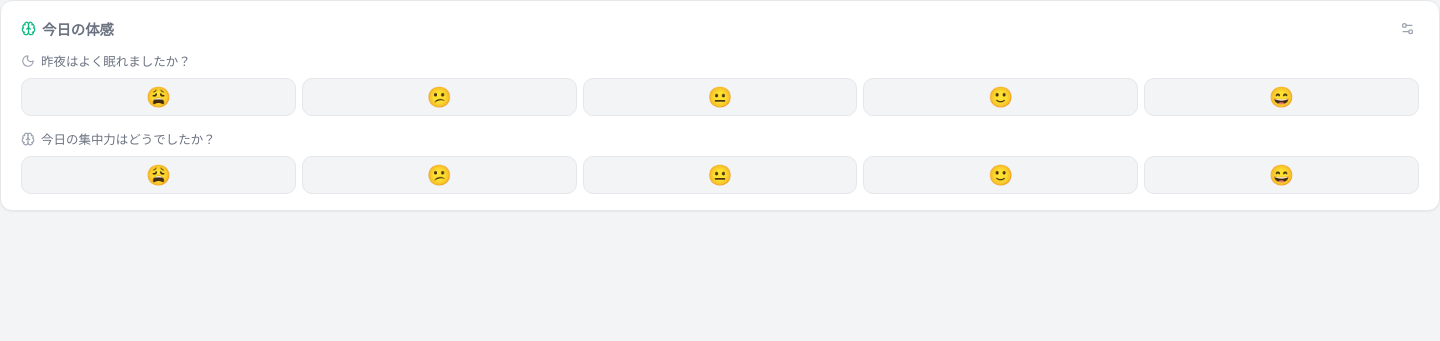
it: ConditionCheckIn › prefills the schedule from the saved profile
expect the text "昨夜はよく眠れましたか？" is shown: met, box [41, 52, 191, 70]
What coordinates should you click on to do the following:
click the button named "生活リズム設定"
I would click on:
 (1408, 28)
Its box is [1396, 17, 1419, 40].
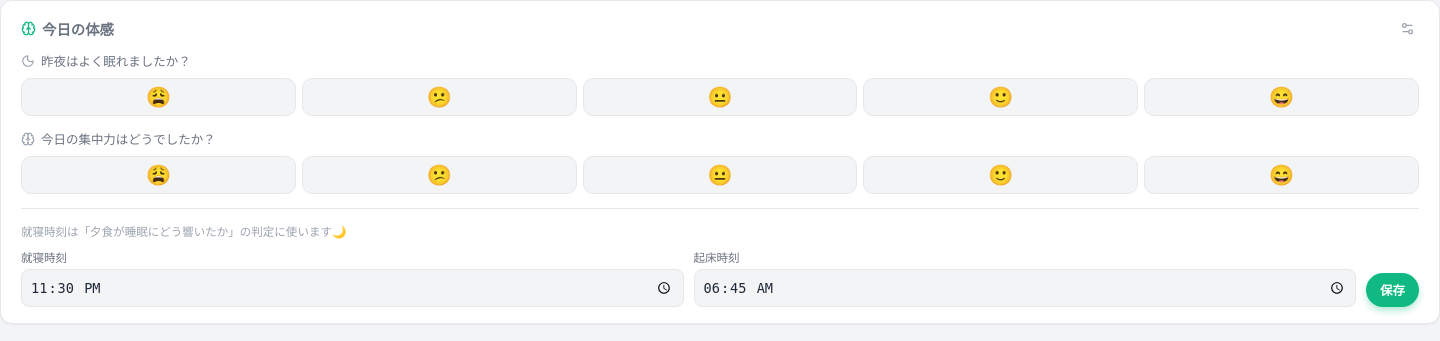
expect the time field labelled "就寝時刻" holds "23:30": met, box [21, 269, 684, 307]
expect the time field labelled "起床時刻" holds "06:45": met, box [694, 269, 1356, 307]
